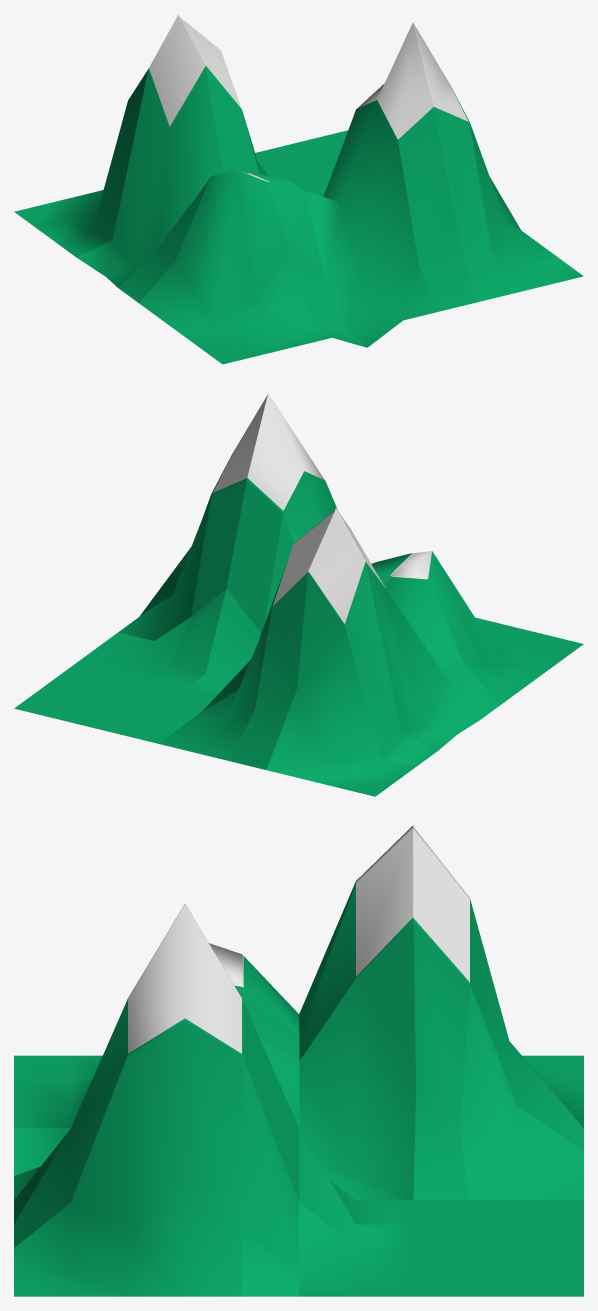
Rendered from Mountain4_1.fbx.
The picture shows the model from 3 angles, top to bottom: view 1: azimuth 30°, elevation 25°; view 2: azimuth 150°, elevation 25°; view 3: azimuth 270°, elevation 25°; orthographic projection. The views are drawn at different scales.
Parts seen in each view (by area): view 1: pPlane1; view 2: pPlane1; view 3: pPlane1.
Boxes of the visible parts, x1,y1,x2,y2 form: pPlane1: (14, 15, 583, 364); pPlane1: (14, 393, 583, 796); pPlane1: (14, 826, 583, 1296).
Size of the model in its own units: 123 by 82.74 by 123.
